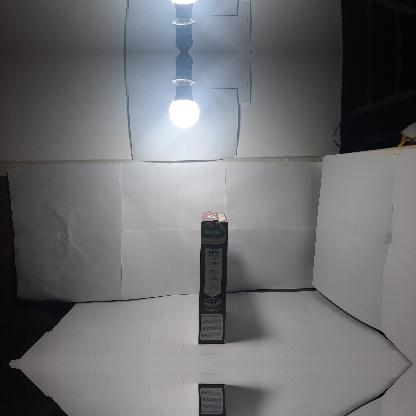Koko-Krunch: (198, 210, 228, 344), (198, 384, 228, 415)
